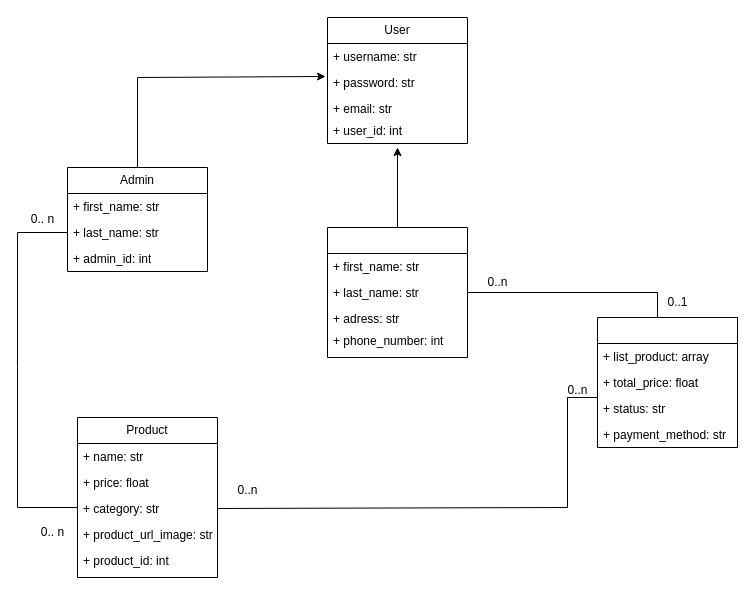
Some shapes in this 755 by 598 pixel diagram are drawn without their labels. Here are the shapes that lost their labels. From the top down, the box of each, then its label:
(326, 226, 468, 358): Client
(596, 316, 738, 448): Cart
